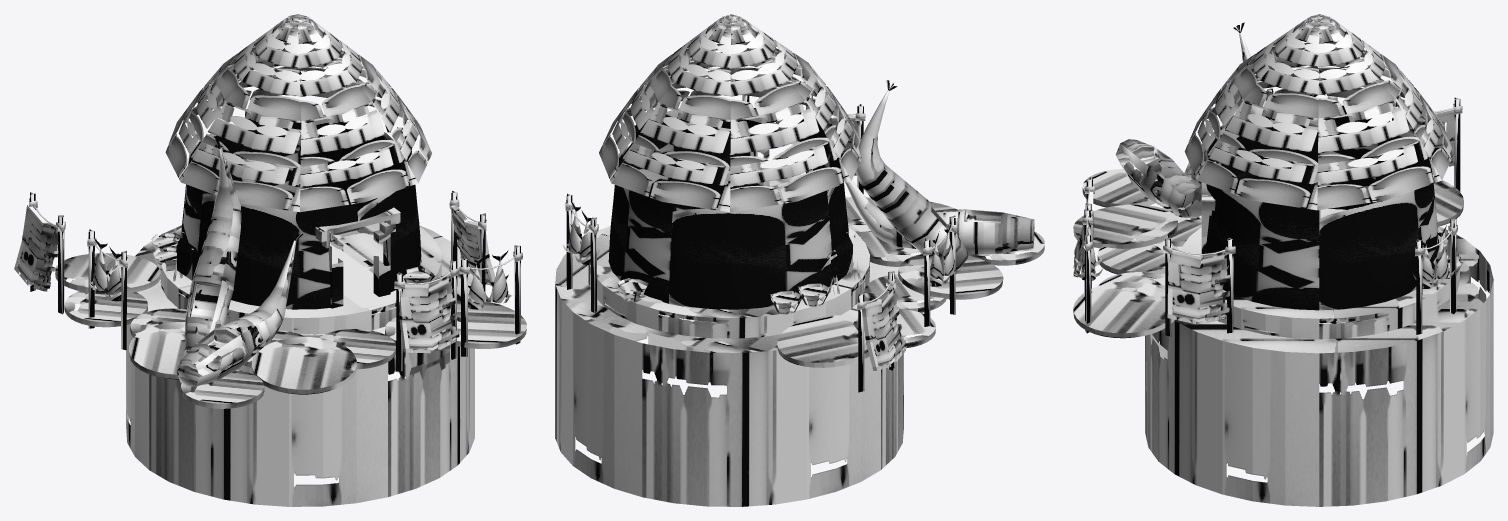
Rendered from dock.dae.
3 renders of one model, left to right at view 1: azimuth 30°, elevation 25°; view 2: azimuth 150°, elevation 25°; view 3: azimuth 270°, elevation 25°, orthographic.
Visible parts, largest first — view 1: dock; view 2: dock; view 3: dock.
Boxes of the visible parts, x1,y1,x2,y2 form: dock: (14, 14, 526, 506); dock: (555, 14, 1044, 506); dock: (1073, 14, 1493, 506).
Size of the model in its own units: 17.19 by 17.03 by 18.48.
